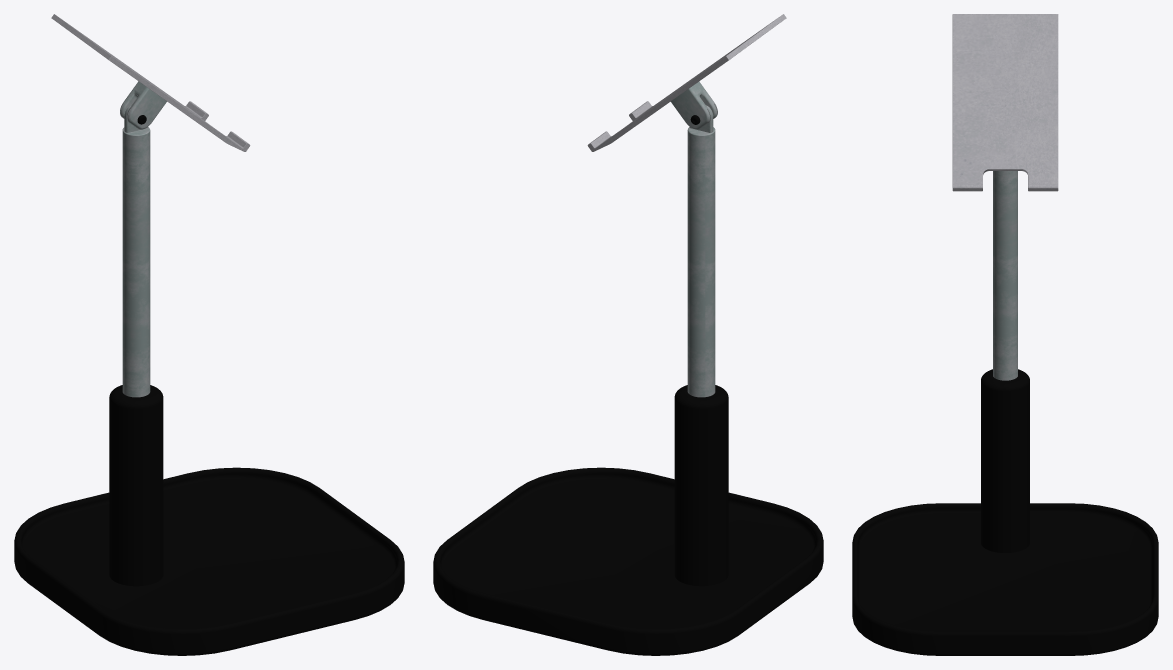
The model's file is mobile_stand.glb.
3 renders of one model, left to right at view 1: azimuth 30°, elevation 25°; view 2: azimuth 150°, elevation 25°; view 3: azimuth 270°, elevation 25°, orthographic. The views are drawn at different scales.
Visible parts, largest first — view 1: Cube_0, Cylinder_4, Cylinder.001_5, Cube.003_3, Cube.002_2; view 2: Cube_0, Cylinder_4, Cylinder.001_5, Cube.003_3, Cube.002_2; view 3: Cube_0, Cube.003_3, Cylinder_4, Cylinder.001_5.
Boxes of the visible parts, x1=… form: Cube_0: x1=14, y1=467, x2=404, y2=655; Cylinder_4: x1=109, y1=385, x2=163, y2=586; Cylinder.001_5: x1=122, y1=127, x2=150, y2=397; Cube.003_3: x1=51, y1=14, x2=250, y2=151; Cube.002_2: x1=120, y1=81, x2=166, y2=129; Cube_0: x1=433, y1=467, x2=823, y2=655; Cylinder_4: x1=674, y1=385, x2=728, y2=586; Cylinder.001_5: x1=687, y1=127, x2=715, y2=397; Cube.003_3: x1=587, y1=14, x2=786, y2=151; Cube.002_2: x1=670, y1=81, x2=717, y2=129; Cube_0: x1=852, y1=503, x2=1158, y2=655; Cube.003_3: x1=952, y1=14, x2=1058, y2=191; Cylinder_4: x1=981, y1=369, x2=1029, y2=552; Cylinder.001_5: x1=993, y1=171, x2=1017, y2=380.
Size of the model in its own units: 1.16 by 2.16 by 1.15.
Materials: 3 (2 with a texture image).
